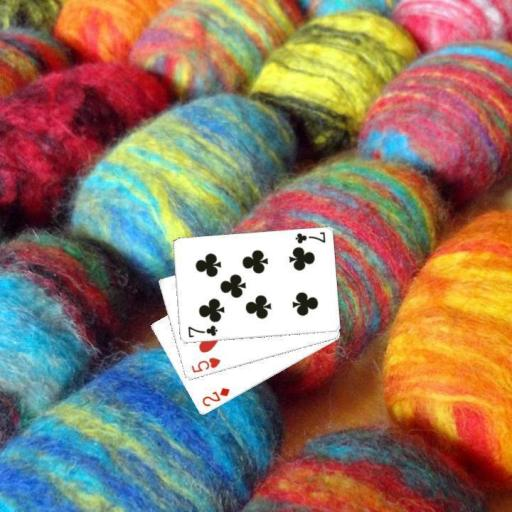card-corner: (199, 385, 231, 408), (188, 354, 222, 375), (184, 322, 218, 339), (292, 229, 327, 245)
